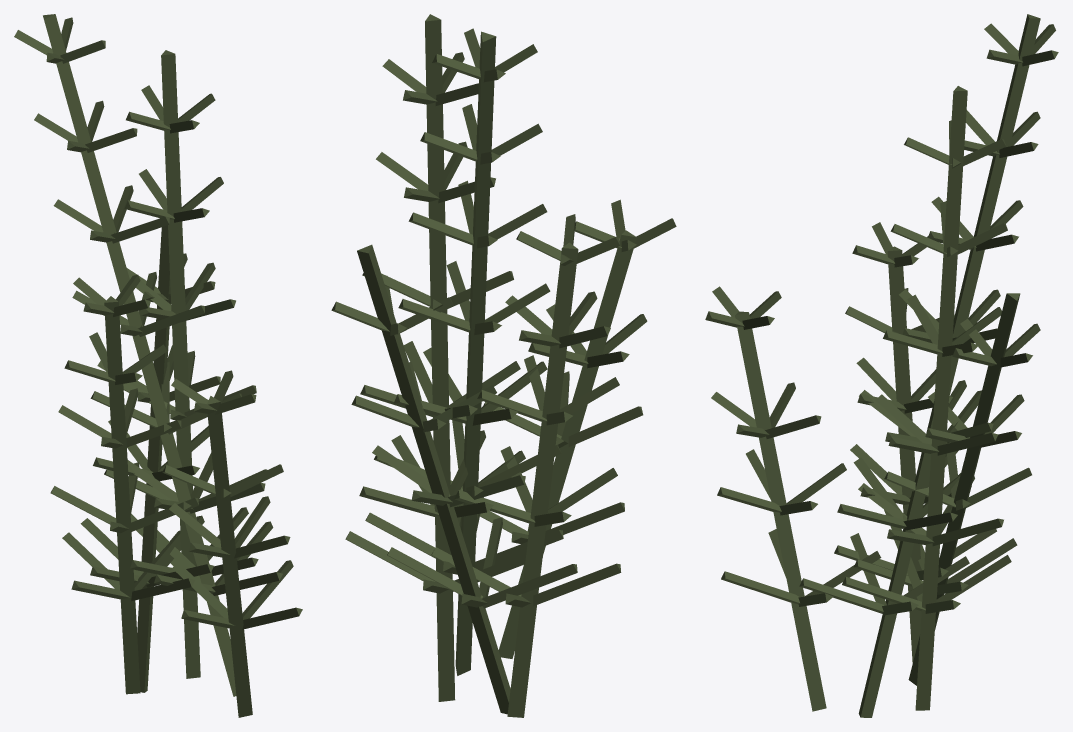
The model's file is lb_milfoil_B.fbx.
The picture shows the model from 3 angles, left to right: view 1: azimuth 30°, elevation 25°; view 2: azimuth 150°, elevation 25°; view 3: azimuth 270°, elevation 25°; orthographic projection. The views are drawn at different scales.
Parts seen in each view (by area): view 1: lb_milfoil_B_export; view 2: lb_milfoil_B_export; view 3: lb_milfoil_B_export.
Boxes of the visible parts, x1,y1,x2,y2 form: lb_milfoil_B_export: [14, 14, 302, 717]; lb_milfoil_B_export: [331, 14, 676, 717]; lb_milfoil_B_export: [705, 14, 1058, 717].
Size of the model in its own units: 20.36 by 59 by 29.03.
